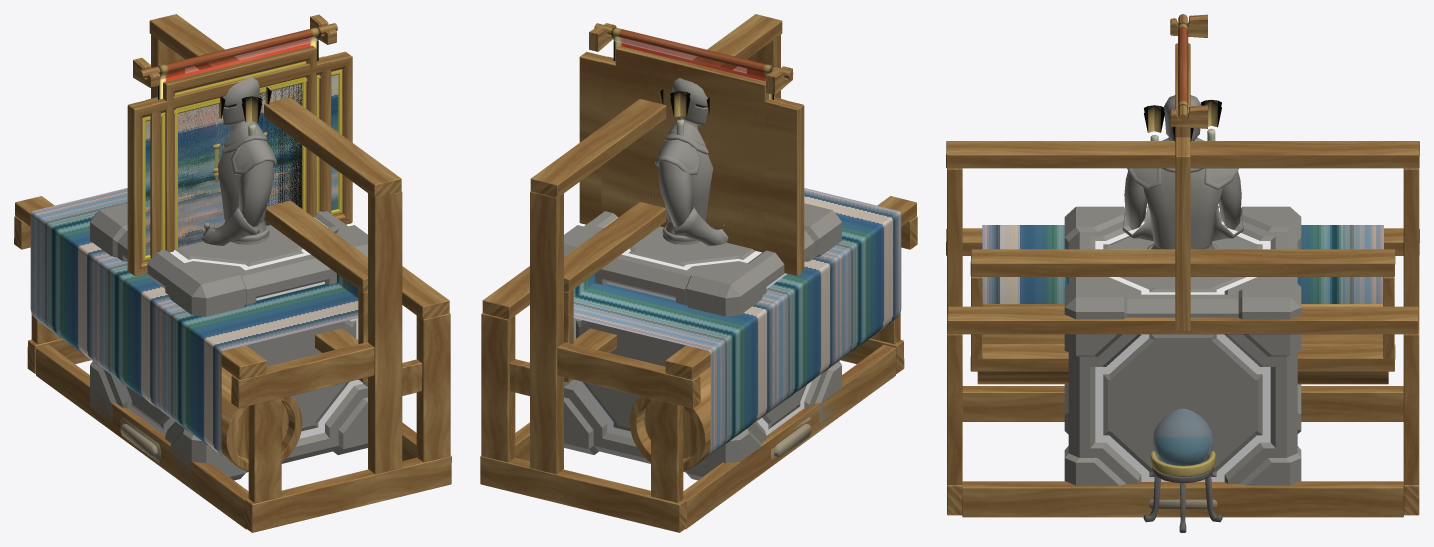
Rendered from decorations.glb.
3 views of the same model, side by side, from view 1: azimuth 30°, elevation 25°; view 2: azimuth 150°, elevation 25°; view 3: azimuth 270°, elevation 25° (orthographic). The views are drawn at different scales.
Parts seen in each view (by area): view 1: Loom, MetalCube, PaintingSeascape, SuitOfPlate, PaintingPortrait, PaintingCastle, PaintingPortraitMaleKing, BannerCloth, HangingBannerRed, PaintingFruit, CandleStand, ClothBoltLinen; view 2: Loom, MetalCube, PaintingSeascape, PaintingCastle, PaintingPortrait, SuitOfPlate, BannerCloth, HangingBannerRed, PaintingFruit, CandleStand, ClothBoltLinen; view 3: Loom, MetalCube, SuitOfPlate, Alembic, PaintingSeascape, HangingBannerRed, CandleStand, BannerCloth, PaintingPortrait.
Boxes of the visible parts, left/top/right/bottom form: Loom: left=14, top=14, right=451, bottom=532; MetalCube: left=90, top=203, right=367, bottom=480; PaintingSeascape: left=127, top=51, right=352, bottom=275; SuitOfPlate: left=201, top=76, right=276, bottom=245; PaintingPortrait: left=163, top=45, right=316, bottom=252; PaintingCastle: left=146, top=56, right=331, bottom=258; PaintingPortraitMaleKing: left=165, top=67, right=316, bottom=250; BannerCloth: left=157, top=27, right=320, bottom=99; HangingBannerRed: left=133, top=14, right=337, bottom=87; PaintingFruit: left=163, top=63, right=316, bottom=236; CandleStand: left=213, top=87, right=271, bottom=182; ClothBoltLinen: left=120, top=417, right=161, bottom=462; Loom: left=480, top=14, right=917, bottom=532; MetalCube: left=564, top=203, right=841, bottom=480; PaintingSeascape: left=579, top=51, right=804, bottom=276; PaintingCastle: left=601, top=56, right=785, bottom=253; PaintingPortrait: left=615, top=46, right=768, bottom=251; SuitOfPlate: left=655, top=78, right=728, bottom=245; BannerCloth: left=611, top=27, right=774, bottom=99; HangingBannerRed: left=589, top=23, right=793, bottom=94; PaintingFruit: left=616, top=64, right=768, bottom=202; CandleStand: left=660, top=89, right=709, bottom=135; ClothBoltLinen: left=771, top=417, right=811, bottom=460; Loom: left=946, top=141, right=1419, bottom=517; MetalCube: left=1064, top=206, right=1301, bottom=485; SuitOfPlate: left=1122, top=95, right=1243, bottom=249; Alembic: left=1143, top=408, right=1222, bottom=532; PaintingSeascape: left=1175, top=145, right=1190, bottom=331; HangingBannerRed: left=1170, top=14, right=1207, bottom=128; CandleStand: left=1144, top=99, right=1221, bottom=141; BannerCloth: left=1178, top=22, right=1188, bottom=109; PaintingPortrait: left=1175, top=43, right=1190, bottom=137.
Bounding box in the file's own units: 1.25 × 2.02 × 2.
46 materials, 8 textured.
